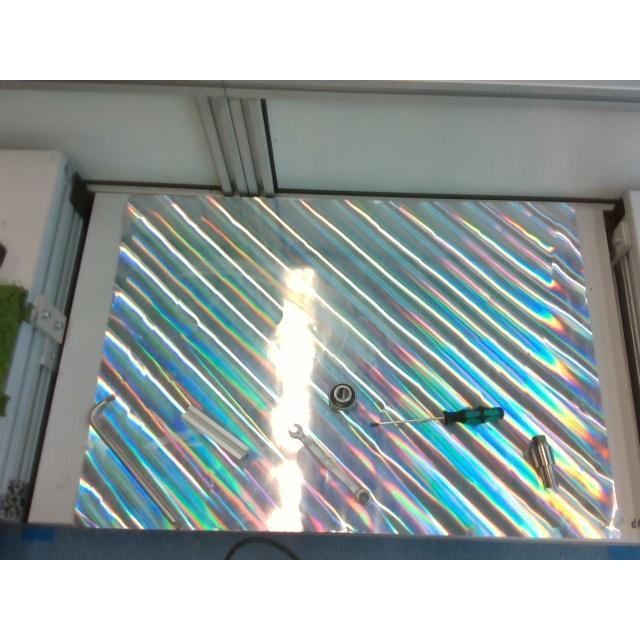AllenKey: (89, 392, 189, 532)
Axis2: (529, 434, 557, 490)
Bearing2: (329, 384, 355, 408)
F20_20_G: (182, 408, 248, 460)
Screwdriver: (368, 406, 504, 426)
Wrench: (288, 422, 372, 504)
